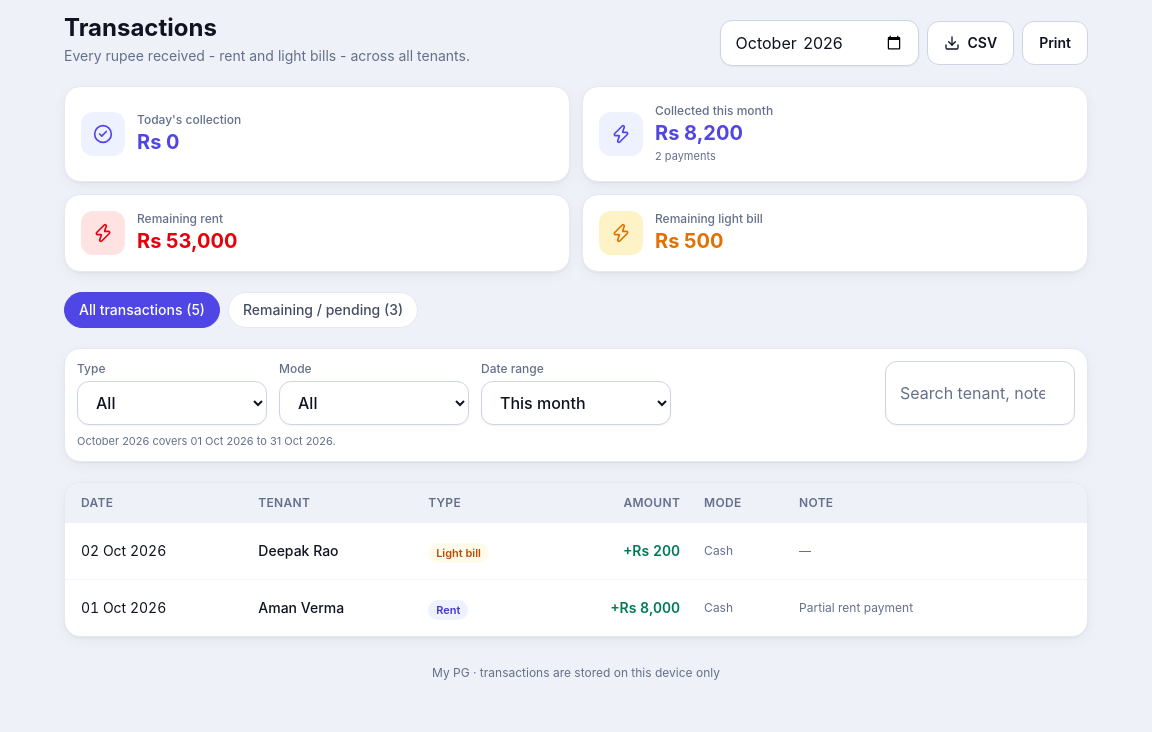
it: Transactions › the Pending tab lists tenants who still owe money
This screenshot has width=1152, height=732.
Click the button "Remaining / pending (3)": (323, 310) [228,292,418,328]
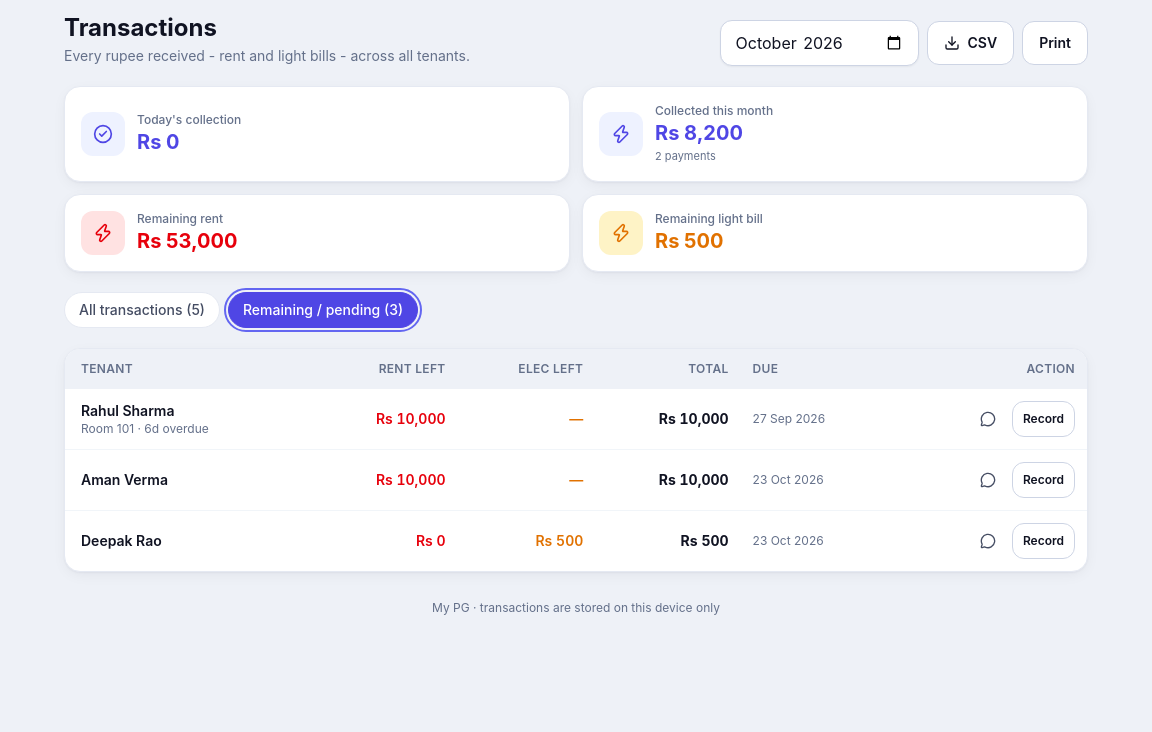
Now the text "Rahul Sharma" is shown, box [81,402,174,418]
